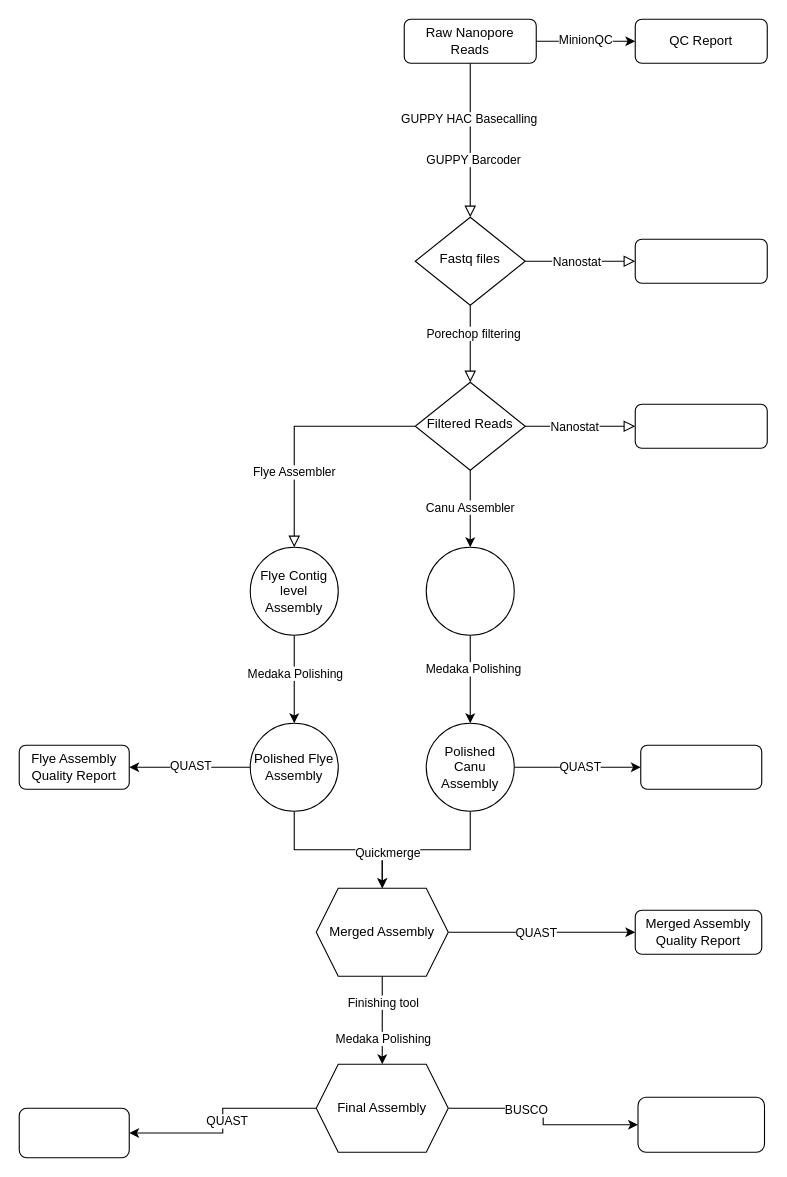
Image size: 787x1177. Some labels were removed from this diagram. The box of each missing label's shape, as (x1, y1, x2, y2) in pixels:
Canu Assembly Quality Report: (640, 744, 762, 789)
Canu Contig level Assembly: (425, 546, 514, 635)
Final Assembly Completeness Report: (637, 1096, 765, 1152)
Final Assembly Quality Report: (18, 1107, 129, 1158)
Postfiltering QC Report: (634, 403, 767, 448)
Prefiltering QC Report: (634, 238, 767, 283)
